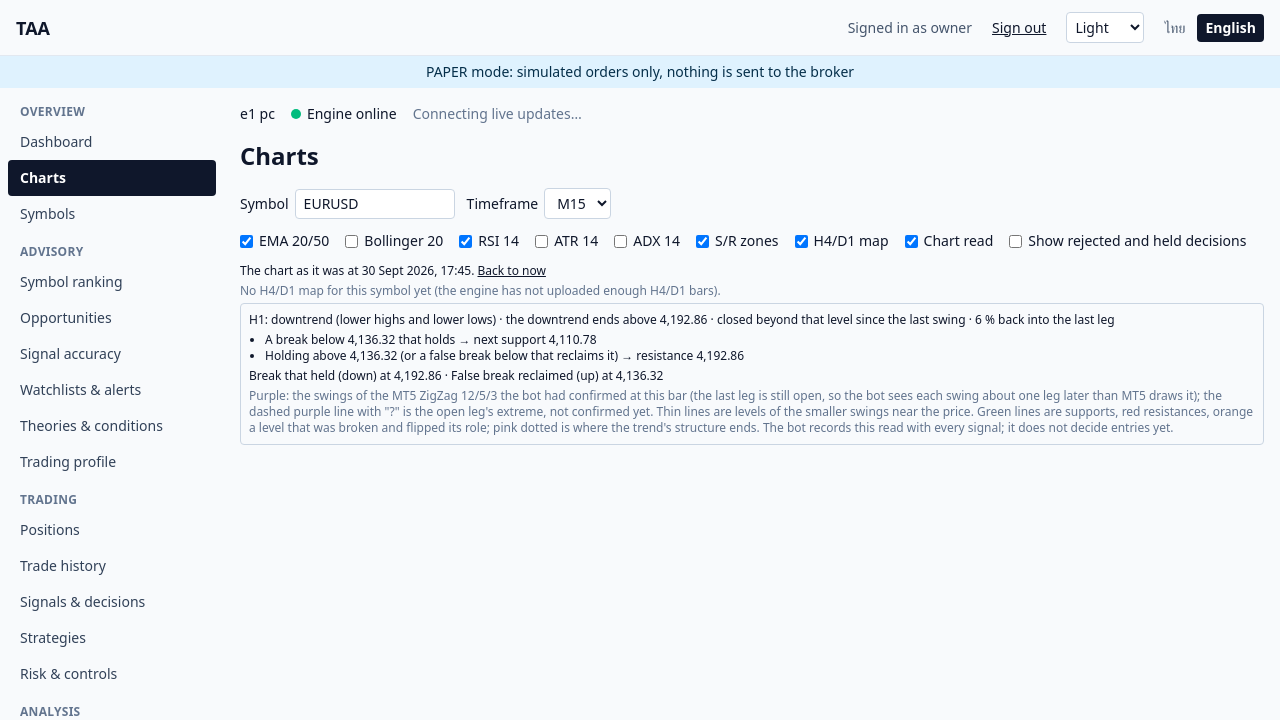
Test case: charts page: the chart read (TAA-L813) › shows the chart as it was at end= and goes back to now
The image size is (1280, 720).
Expected: the text "The chart as it was at 30 Sept 2026, 17:45. Back to now" is shown, x1=240 y1=262 x2=546 y2=279
Expected: the element named "The bot's chart read" is shown, x1=240 y1=303 x2=1264 y2=445
Click the button "Back to now" at coordinates (512, 271), box x1=478 y1=263 x2=546 y2=279
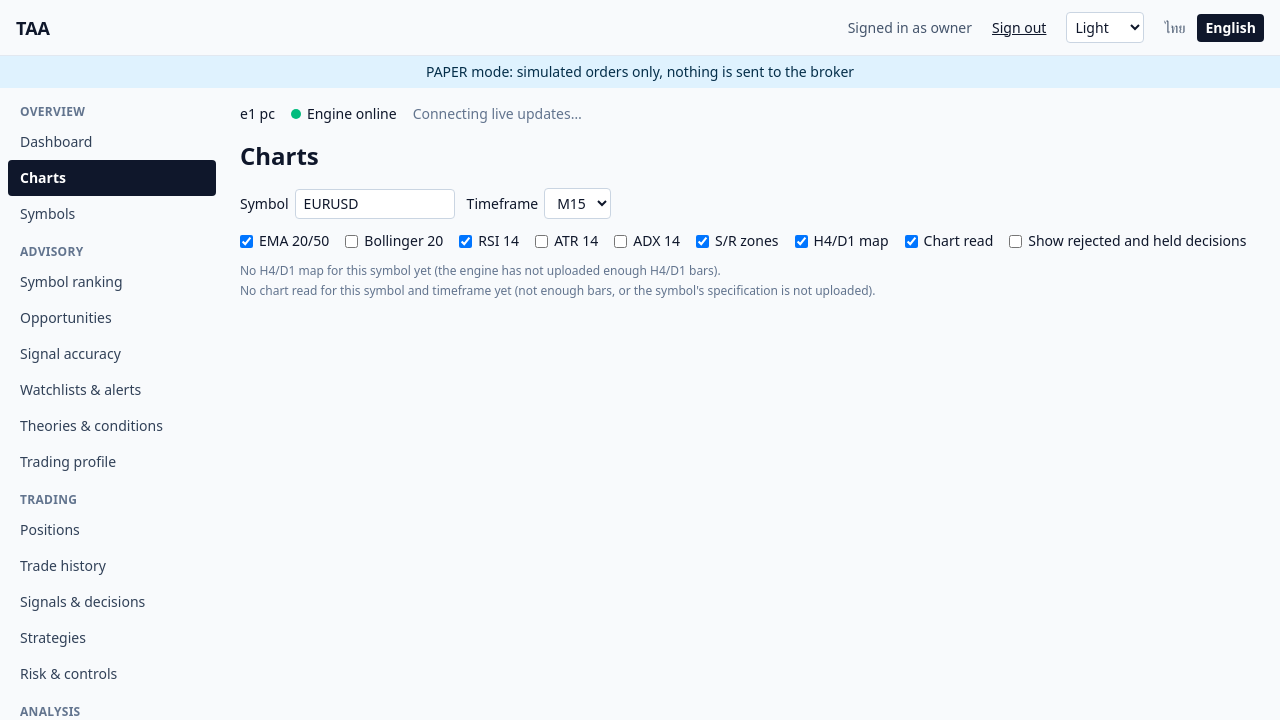
Expected: the text "The chart as it was at" is gone
